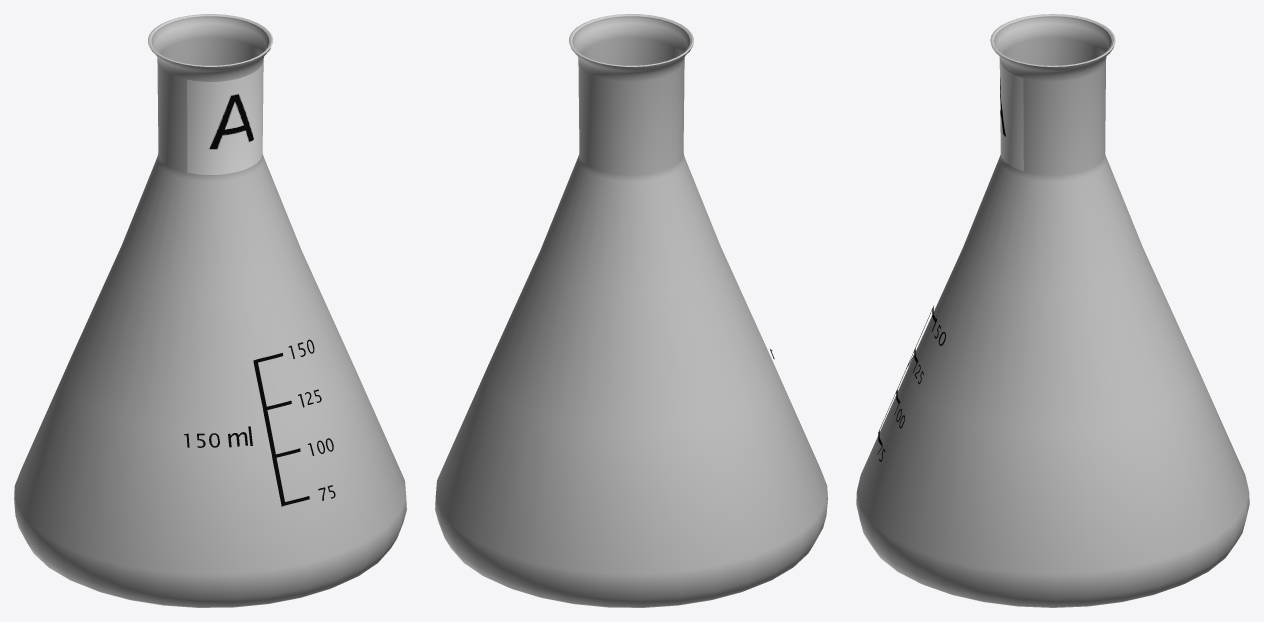
File: conical_flask_A.fbx
3 views of the same model, side by side, from view 1: azimuth 30°, elevation 25°; view 2: azimuth 150°, elevation 25°; view 3: azimuth 270°, elevation 25° (orthographic).
Parts seen in each view (by area): view 1: conical beaker, sticker, Plane.003; view 2: conical beaker; view 3: conical beaker, sticker.
Boxes of the visible parts, x1,y1,x2,y2 form: conical beaker: [14, 14, 406, 607]; sticker: [187, 61, 263, 174]; Plane.003: [253, 353, 309, 506]; conical beaker: [435, 14, 827, 607]; conical beaker: [856, 14, 1249, 607]; sticker: [999, 59, 1023, 171].
Bounding box in the file's own units: 12.72 × 17.6 × 12.72.
